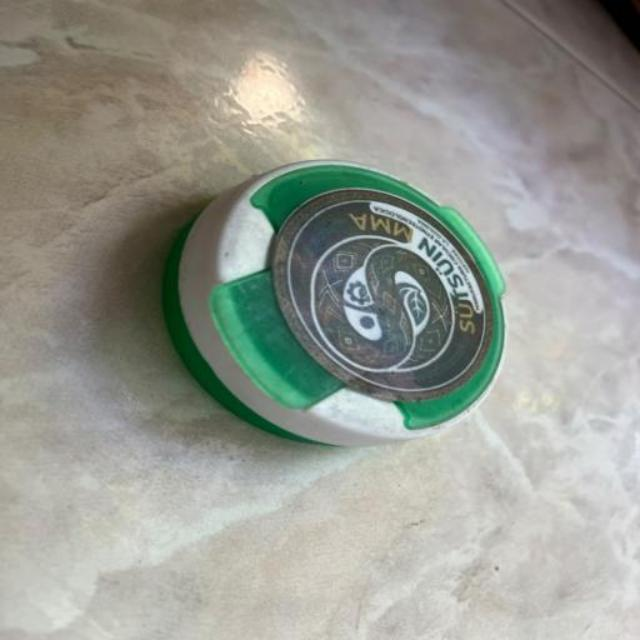HDPE: (155, 145, 528, 514)
